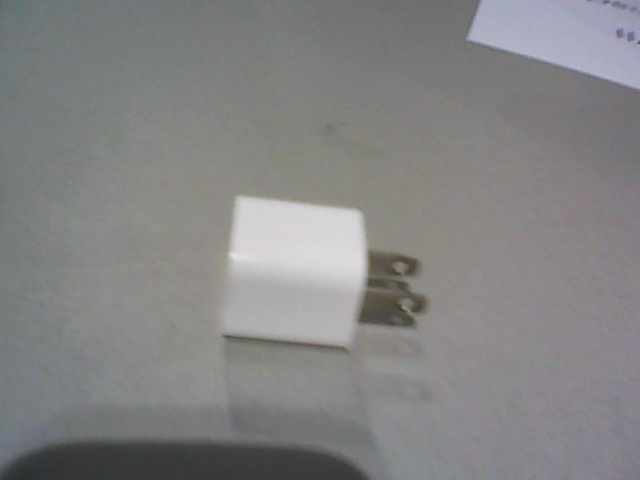charger: (221, 195, 429, 352)
